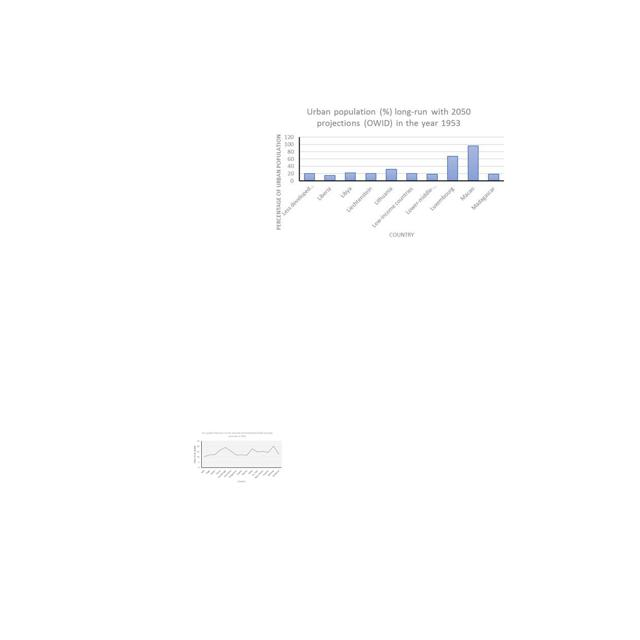Graph: (272, 104, 507, 241), (191, 430, 283, 484)
